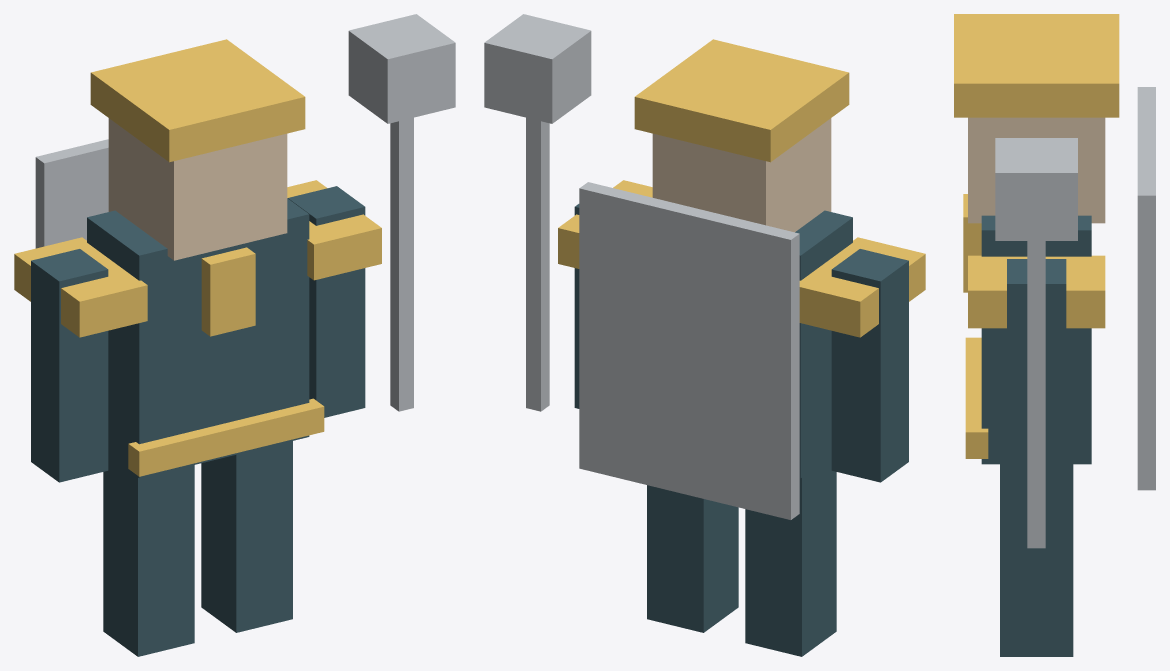
Rendered from 13_draven_trenchmark_diver_of_modular.glb.
3 renders of one model, left to right at view 1: azimuth 30°, elevation 25°; view 2: azimuth 150°, elevation 25°; view 3: azimuth 270°, elevation 25°, orthographic. The views are drawn at different scales.
Visible parts, largest first — view 1: Draven Trenchmark, Diver of Modular; view 2: Draven Trenchmark, Diver of Modular; view 3: Draven Trenchmark, Diver of Modular.
Part boxes in pixels (x1,y1,x2,y2): Draven Trenchmark, Diver of Modular: [14, 14, 455, 656]; Draven Trenchmark, Diver of Modular: [484, 14, 925, 656]; Draven Trenchmark, Diver of Modular: [954, 14, 1155, 656].
Size of the model in its own units: 1.12 by 1.47 by 0.4745.
